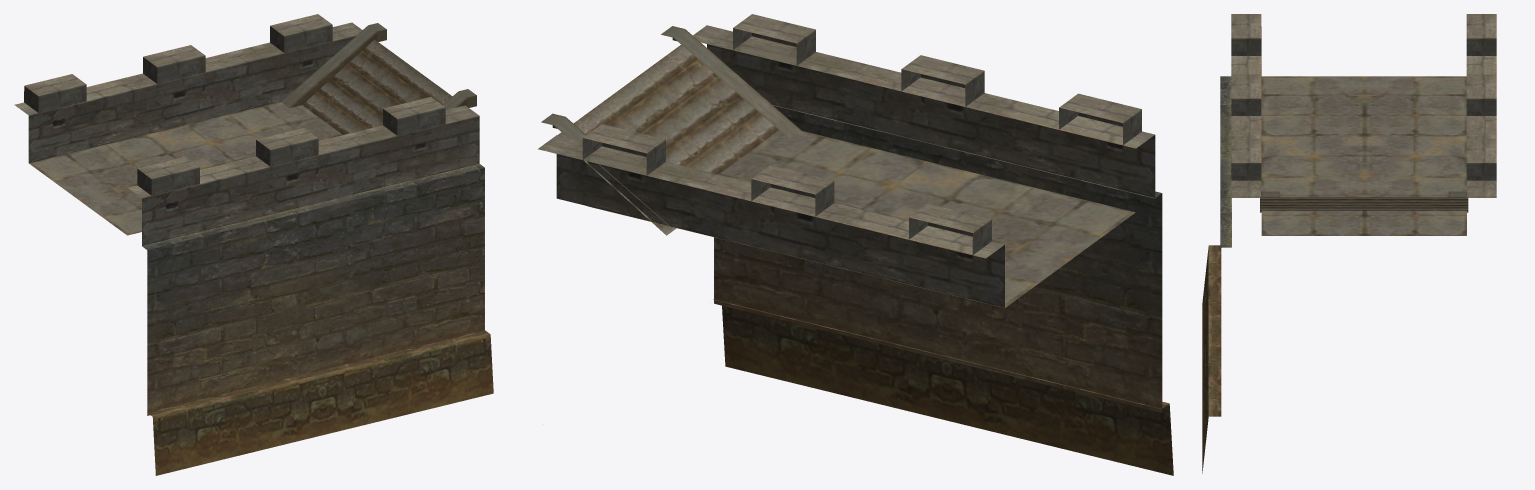
Rendered from yw_yanmenguan_chengqiang.FBX.
3 renders of one model, left to right at view 1: azimuth 30°, elevation 25°; view 2: azimuth 150°, elevation 25°; view 3: azimuth 270°, elevation 25°, orthographic. The views are drawn at different scales.
Parts seen in each view (by area): view 1: yw_yanmenguan_chengqiang; view 2: yw_yanmenguan_chengqiang; view 3: yw_yanmenguan_chengqiang.
Part boxes in pixels (x1,y1,x2,y2): yw_yanmenguan_chengqiang: (14, 14, 493, 475); yw_yanmenguan_chengqiang: (538, 14, 1173, 475); yw_yanmenguan_chengqiang: (1202, 14, 1496, 473).
Size of the model in its own units: 781 by 607 by 593.
